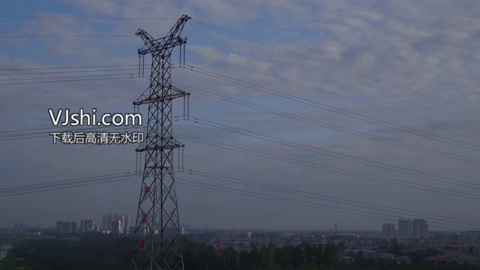tower_body: (128, 11, 195, 270)
tower_foot: (132, 215, 182, 266)
tower_head: (130, 12, 192, 56)
